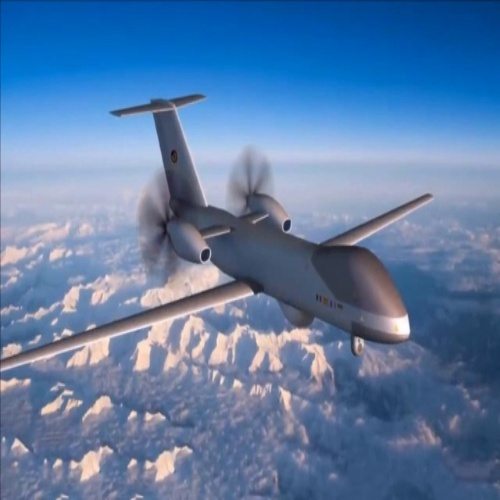uav936: (1, 89, 441, 371)
